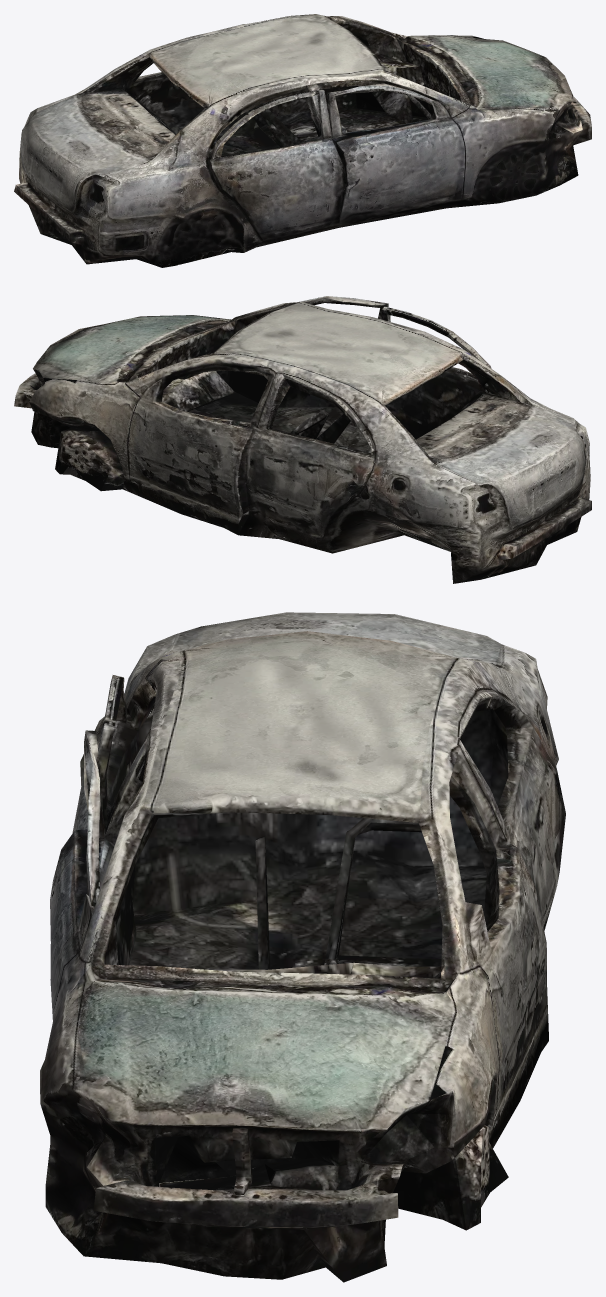
File: car_saloon.glb
The picture shows the model from 3 angles, top to bottom: view 1: azimuth 30°, elevation 25°; view 2: azimuth 150°, elevation 25°; view 3: azimuth 270°, elevation 25°; orthographic projection. The views are drawn at different scales.
Parts seen in each view (by area): view 1: default002_Material #26_0; view 2: default002_Material #26_0; view 3: default002_Material #26_0.
Part boxes in pixels (bbox=[...]): default002_Material #26_0: bbox=[14, 14, 591, 267]; default002_Material #26_0: bbox=[14, 296, 591, 583]; default002_Material #26_0: bbox=[40, 612, 565, 1282].
Size of the model in its own units: 4.5 by 1.25 by 2.01.
1 material, 1 textured.
